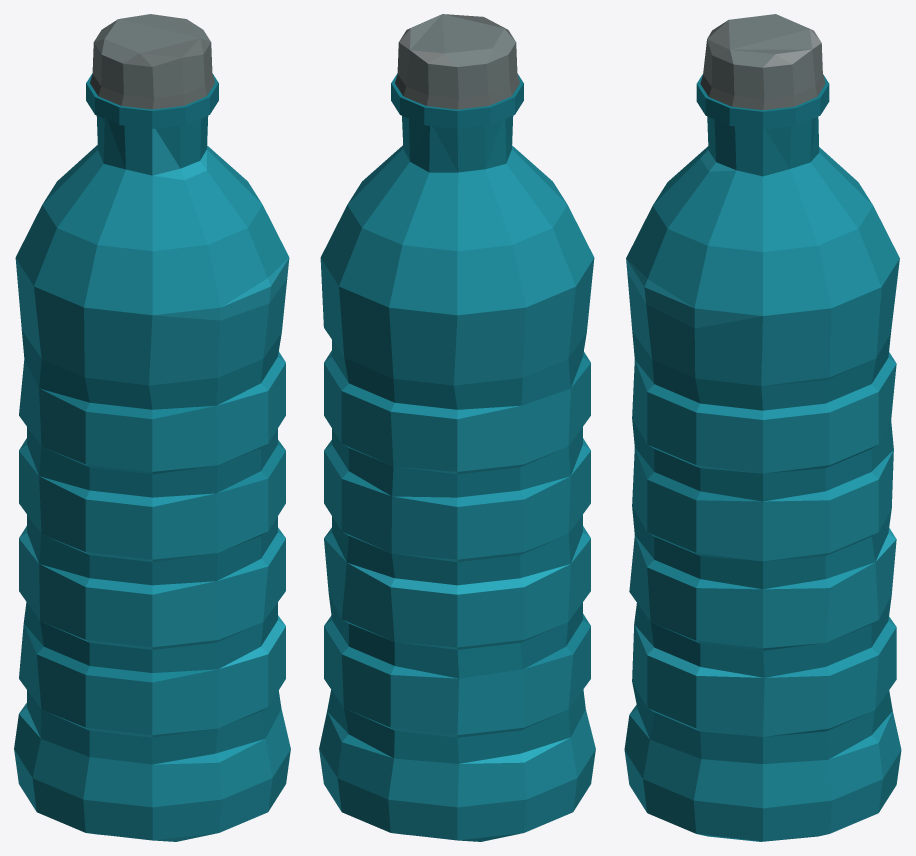
Rendered from mesh_bottle_01.fbx.
3 renders of one model, left to right at view 1: azimuth 30°, elevation 25°; view 2: azimuth 150°, elevation 25°; view 3: azimuth 270°, elevation 25°, orthographic.
Visible parts, largest first — view 1: mesh_bottle_01; view 2: mesh_bottle_01; view 3: mesh_bottle_01.
Part boxes in pixels (box(x1,y1,x2,y2)): mesh_bottle_01: box(14, 14, 290, 841); mesh_bottle_01: box(319, 14, 595, 841); mesh_bottle_01: box(624, 14, 901, 841).
Bounding box in the file's own units: 0.1865 × 0.5671 × 0.1865.
